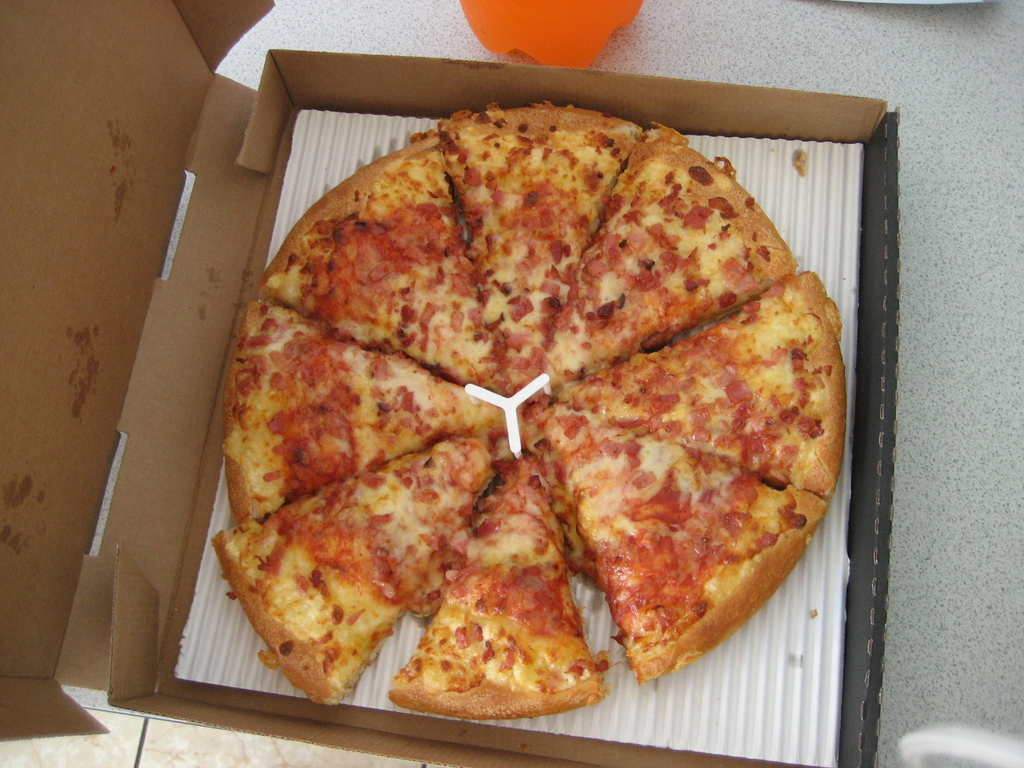pizza: (221, 101, 872, 721)
